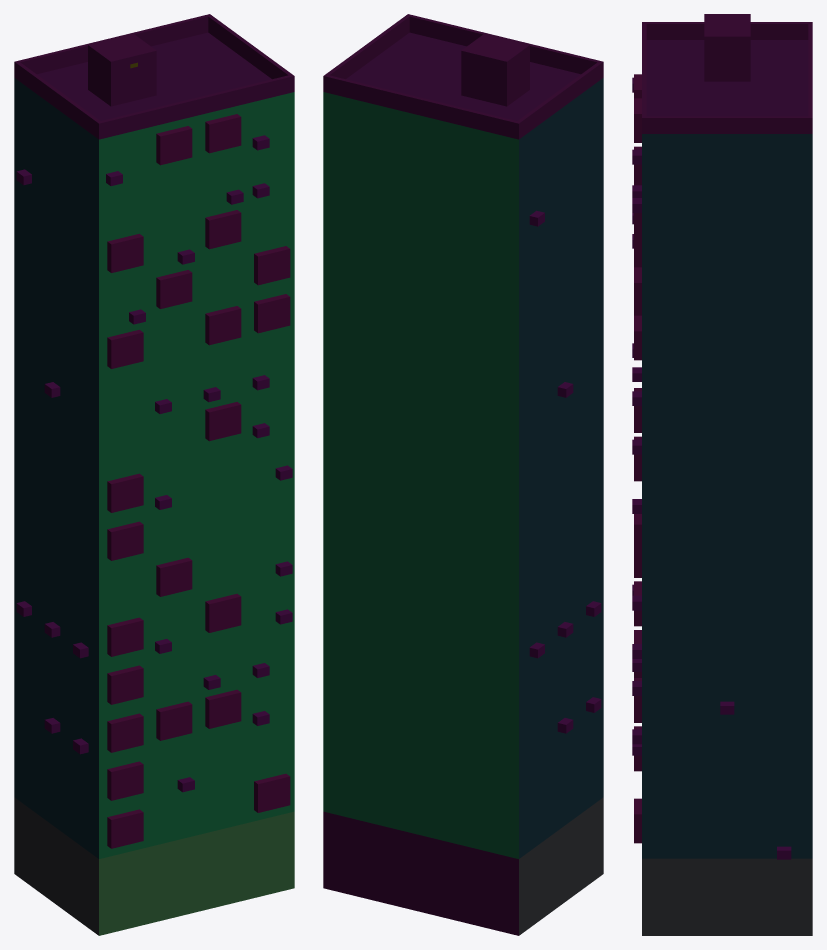
The model's file is slab_h.glb.
3 renders of one model, left to right at view 1: azimuth 30°, elevation 25°; view 2: azimuth 150°, elevation 25°; view 3: azimuth 270°, elevation 25°, orthographic.
Parts seen in each view (by area): view 1: slab_h; view 2: slab_h; view 3: slab_h.
Part boxes in pixels (x1,y1,x2,y2): slab_h: [14, 14, 294, 935]; slab_h: [323, 14, 603, 935]; slab_h: [632, 14, 812, 935].
Bounding box in the file's own units: 13.9 × 52.6 × 10.15.
